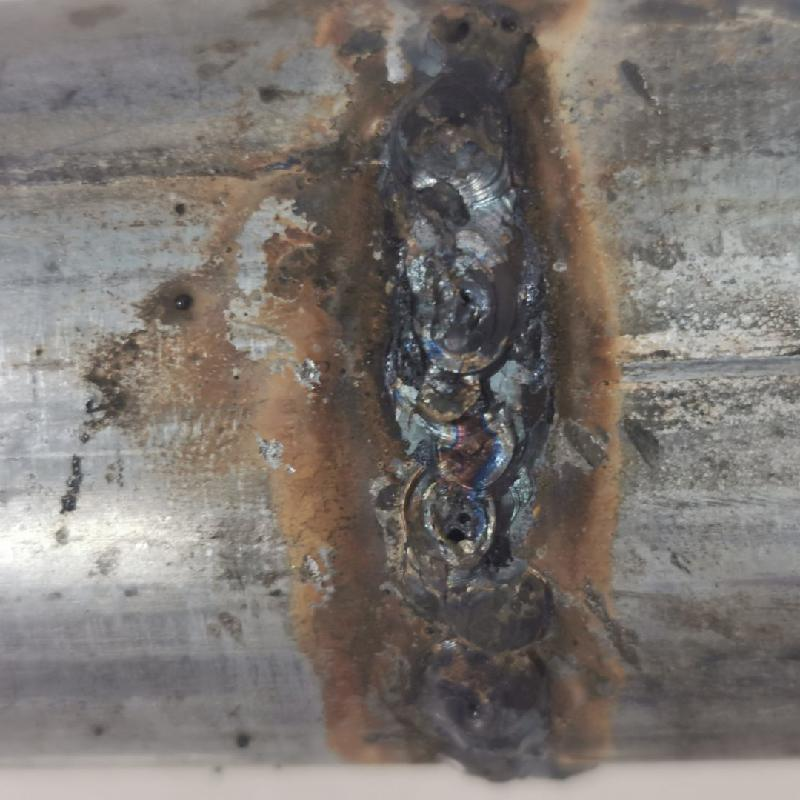Surface_pores: (427, 6, 533, 55), (438, 505, 480, 542)
crater: (386, 264, 538, 566)
wrong_size: (377, 2, 553, 265), (408, 569, 580, 782)
